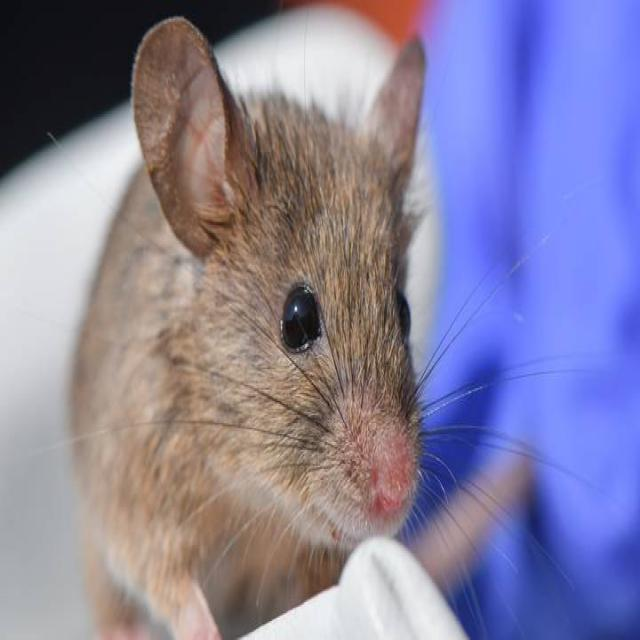Mouse: (82, 15, 432, 623)
